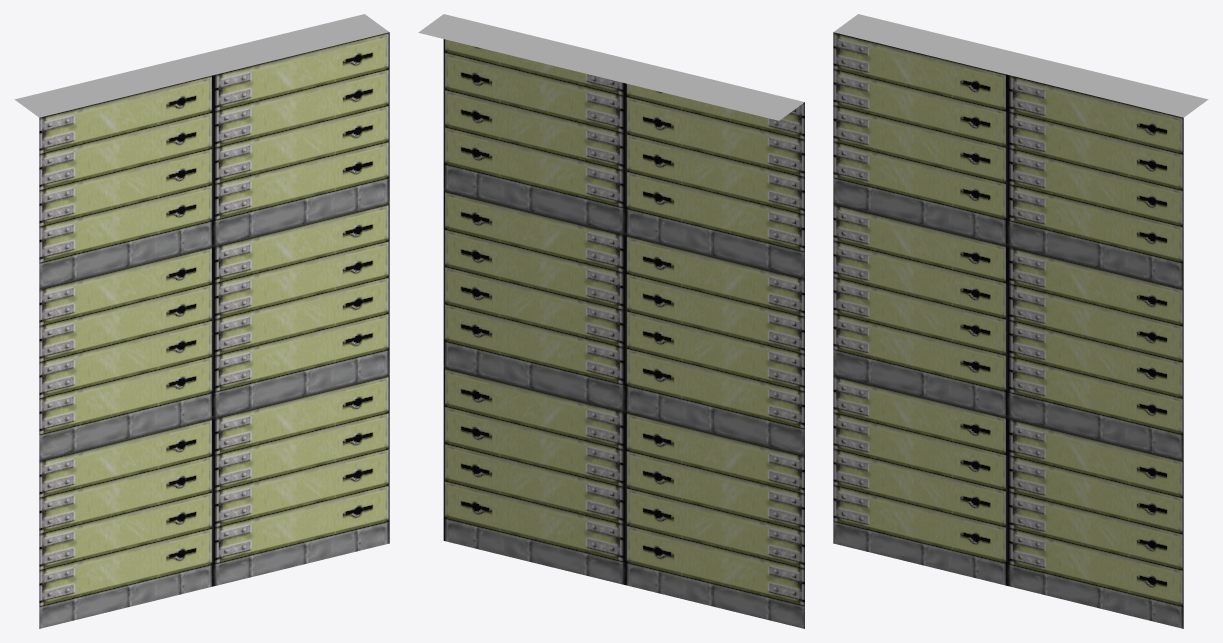
File: W_I3_x [Schließfächer]_142.glb
3 views of the same model, side by side, from view 1: azimuth 30°, elevation 25°; view 2: azimuth 150°, elevation 25°; view 3: azimuth 330°, elevation 25° (orthographic). The views are drawn at different scales.
Parts seen in each view (by area): view 1: pPlaneShape2, pPlaneShape1; view 2: pPlaneShape2, pPlaneShape1; view 3: pPlaneShape2, pPlaneShape1.
Part boxes in pixels (x1,y1,x2,y2): pPlaneShape2: [39, 32, 389, 628]; pPlaneShape1: [14, 14, 389, 117]; pPlaneShape2: [443, 39, 804, 628]; pPlaneShape1: [418, 14, 804, 120]; pPlaneShape2: [833, 32, 1183, 628]; pPlaneShape1: [833, 14, 1208, 117].
Size of the model in its own units: 0.25 by 0.3486 by 0.0308.
2 materials, 1 textured.
